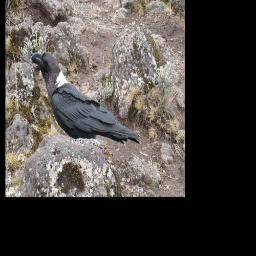Crow: (30, 52, 142, 147)
